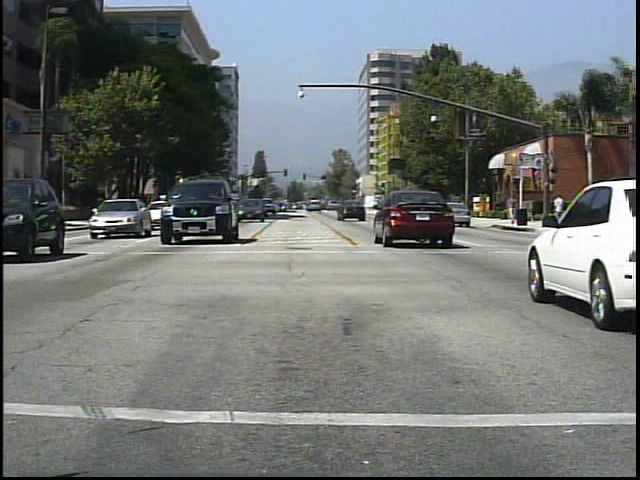person: (506, 190, 519, 226), (551, 190, 570, 213)
